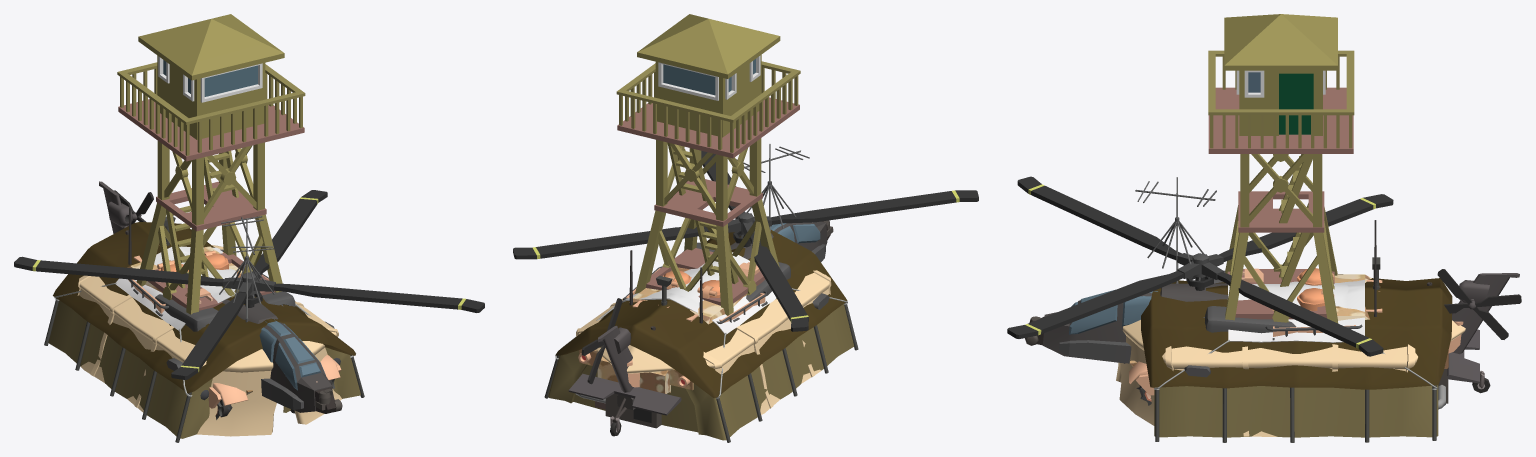
The model's file is assets.glb.
The picture shows the model from 3 angles, left to right: view 1: azimuth 30°, elevation 25°; view 2: azimuth 150°, elevation 25°; view 3: azimuth 270°, elevation 25°; orthographic projection. The views are drawn at different scales.
Parts seen in each view (by area): view 1: Tower_003, Tent_002, Blade_001, Tent_010, Helicopter_001, Tank_tower_006, Tank_006, Radiostation_001; view 2: Tower_003, Tent_002, Blade_001, Tent_010, Helicopter_001, Tank_tower_006, Tank_006, Radiostation_001, Blade_002; view 3: Tent_002, Tower_003, Blade_001, Helicopter_001, Tent_010, Tank_tower_006, Blade_002, Radiostation_001, Tank_006.
Boxes of the visible parts, x1,y1,x2,y2 form: Tower_003: (117,14,305,314); Tent_002: (44,222,364,442); Blade_001: (14,190,484,379); Tent_010: (77,230,341,436); Helicopter_001: (99,181,342,413); Tank_tower_006: (127,207,269,316); Tank_006: (208,354,341,419); Radiostation_001: (219,216,274,322); Tower_003: (616,14,800,315); Tent_002: (544,230,858,442); Blade_001: (513,151,978,331); Tent_010: (575,270,831,428); Helicopter_001: (568,220,833,436); Tank_tower_006: (623,250,767,324); Tank_006: (578,349,693,393); Radiostation_001: (736,144,809,231); Blade_002: (581,298,622,384); Tent_002: (1141,278,1452,442); Tower_003: (1208,14,1354,323); Blade_001: (1007,176,1393,356); Helicopter_001: (1025,270,1519,393); Tent_010: (1116,282,1465,436); Tank_tower_006: (1241,220,1382,340); Blade_002: (1437,269,1521,339); Radiostation_001: (1135,177,1216,283); Tank_006: (1129,321,1463,405).
Size of the model in its own units: 11.47 by 12.46 by 15.28.
13 materials, 6 textured.
